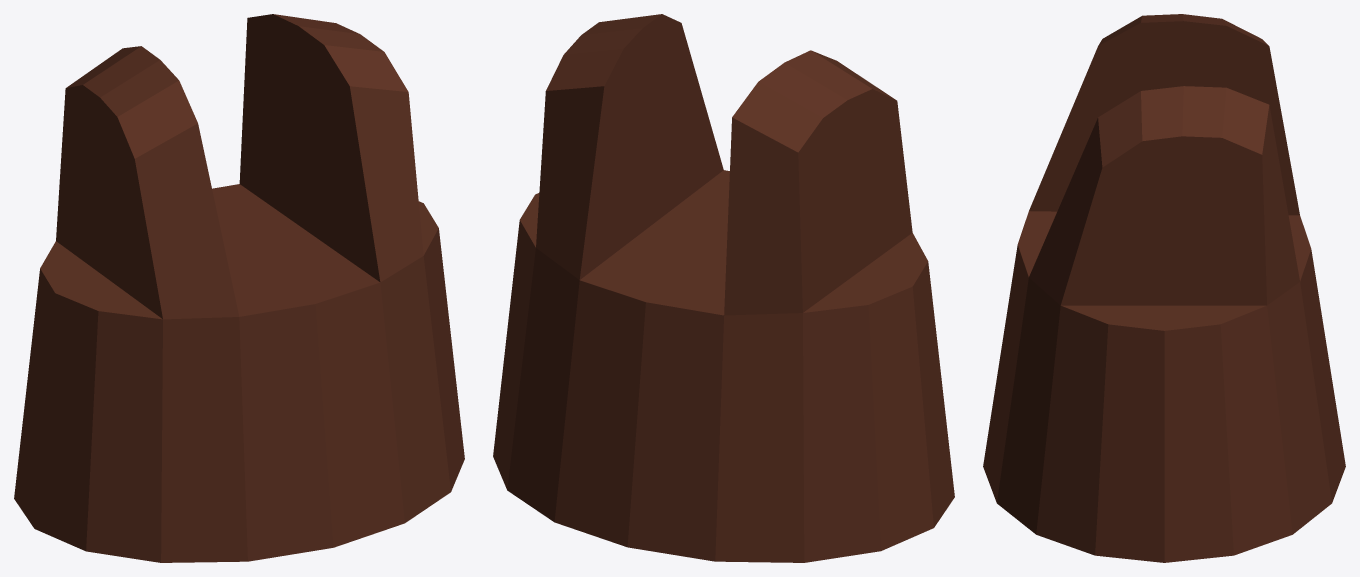
The model's file is peitoral_1.fbx.
The picture shows the model from 3 angles, left to right: view 1: azimuth 30°, elevation 25°; view 2: azimuth 150°, elevation 25°; view 3: azimuth 270°, elevation 25°; orthographic projection. The views are drawn at different scales.
Parts seen in each view (by area): view 1: Cilindro.001; view 2: Cilindro.001; view 3: Cilindro.001.
Part boxes in pixels (bbox=[...]): Cilindro.001: bbox=[14, 14, 464, 562]; Cilindro.001: bbox=[493, 14, 954, 562]; Cilindro.001: bbox=[983, 14, 1345, 562].
Size of the model in its own units: 75.9 by 75.8 by 60.36.
1 material, 1 textured.
